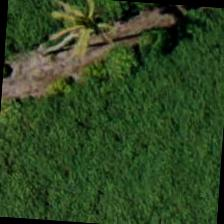Kelapa_Sawit: (30, 0, 125, 63)
